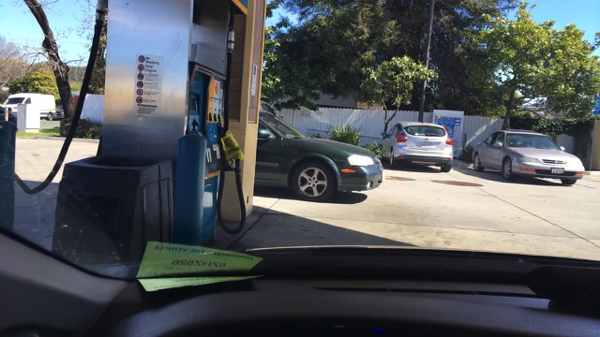car: (253, 111, 383, 203), (470, 128, 585, 186), (380, 122, 453, 173), (3, 93, 57, 121), (0, 106, 17, 125), (260, 101, 279, 116), (54, 105, 65, 119)
traffic sign: (592, 95, 599, 116)
